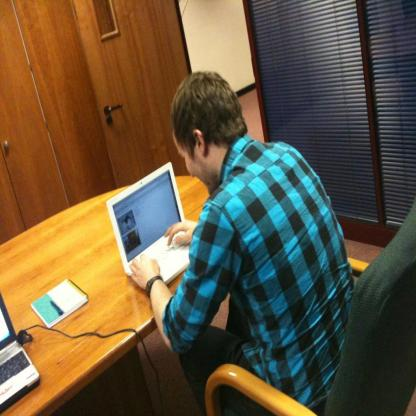board: (105, 162, 190, 284), (0, 292, 41, 414)
